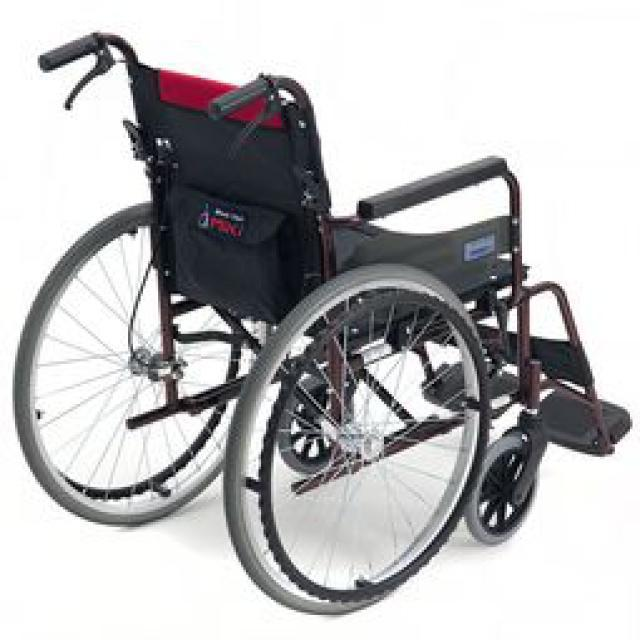wheelchairs: (11, 31, 629, 614)
